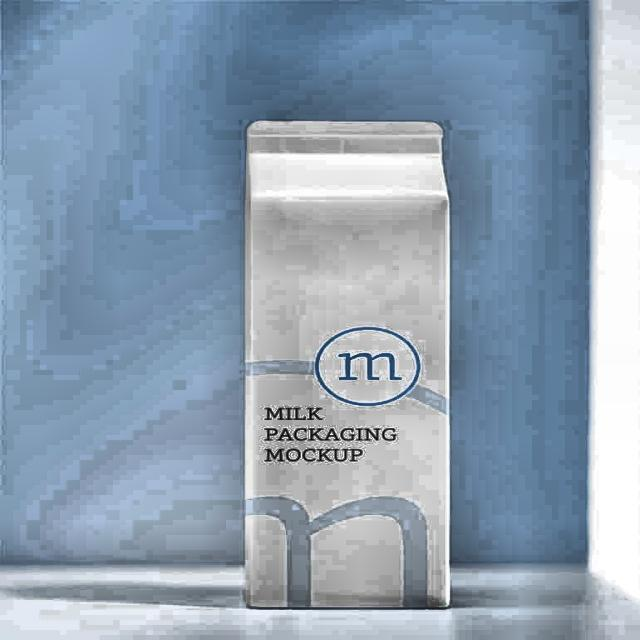cardboard: (243, 120, 451, 609)
